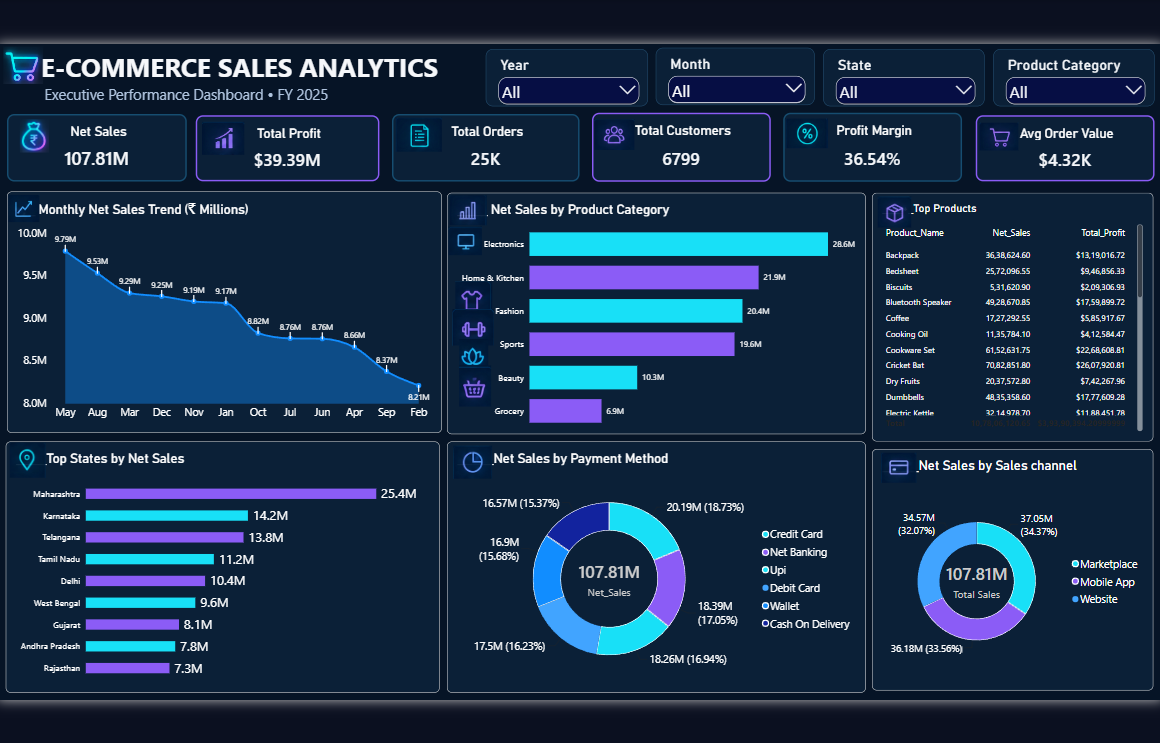

The page's visual inventory and layout, read from the dashboard file:
{"tool":"powerbi","page":{"name":"Page 1","canvas":[1920,1080],"ordinal":0},"visuals":[{"type":"textbox","box":[0,391,455,150],"z":0},{"type":"textbox","box":[70,8.2,658.7,92.6],"z":1000},{"type":"textbox","box":[78.2,65.9,483.7,32.9],"z":2000},{"type":"image","box":[10.3,4.1,65.9,61.7],"z":3000},{"type":"slicer","fields":{"Values":["Date_Table.Year"]},"box":[804.8,8.2,267.6,94.7],"z":4000},{"type":"slicer","fields":{"Values":["E-Commerce_cleaned.Product_Category"]},"box":[1640.5,8.2,265.5,94.7],"z":5000},{"type":"slicer","fields":{"Values":["E-Commerce_cleaned.State"]},"box":[1360.6,8.2,265.5,94.7],"z":6000},{"type":"slicer","fields":{"Values":["Date_Table.Month"]},"box":[1084.7,6.2,261.4,94.7],"z":7000},{"type":"card","title":"Net Sales","fields":{"Values":["Measure.Net_Sales"]},"box":[16.5,115.3,296.4,111.1],"z":8000},{"type":"card","title":"Total Profit","fields":{"Values":["Measure.Total_Profit"]},"box":[327.3,117.3,302.6,109.1],"z":9000},{"type":"card","title":"Profit Margin","fields":{"Values":["Measure.Profit_Margin_%"]},"box":[1294.7,113.2,294.3,113.2],"z":10000},{"type":"card","title":"Total Orders","fields":{"Values":["Measure.Total_Orders"]},"box":[650.4,115.3,308.7,111.1],"z":11000},{"type":"card","title":"Total Customers","fields":{"Values":["Measure.Total_Customers"]},"box":[979.8,113.2,294.3,113.2],"z":12000},{"type":"card","title":"Avg Order Value","fields":{"Values":["Measure.Avg_Ord_Val"]},"box":[1611.7,117.3,294.3,109.1],"z":13000},{"type":"lineChart","title":".   ,  _  Monthly Net Sales Trend (₹ Millions)","fields":{"Category":["Date_Table.Month"],"Y":["Measure.Net_Sales"]},"box":[16.5,242.9,716.3,397.3],"z":14000},{"type":"image","box":[18.5,242.9,51.5,55.6],"z":15000},{"type":"image","box":[656.6,107,76.2,84.4],"z":16000},{"type":"image","box":[28.8,123.5,65.9,55.6],"z":17000},{"type":"image","box":[337.6,119.4,70,72],"z":18000},{"type":"image","box":[983.9,119.4,65.9,59.7],"z":19000},{"type":"image","box":[1298.8,113.2,70,67.9],"z":20000},{"type":"image","box":[1617.8,115.3,63.8,74.1],"z":21000},{"type":"barChart","title":"_____ Net Sales by Product Category","fields":{"Category":["E-Commerce_cleaned.Product_Category"],"Y":["Measure.Net_Sales"]},"box":[741,244.9,689.5,397.3],"z":22000},{"type":"donutChart","title":"______Net Sales by Sales channel","fields":{"Category":["E-Commerce_cleaned.Sales_Channel"],"Y":["Measure.Net_Sales"]},"box":[1440.8,666.9,463.1,397.3],"z":23000},{"type":"barChart","title":"_____Top States by Net Sales","fields":{"Category":["E-Commerce_cleaned.State"],"Y":["Measure.Net_Sales"]},"box":[14.4,654.5,714.2,413.7],"z":24000},{"type":"donutChart","title":"______Net Sales by Payment Method","fields":{"Category":["E-Commerce_cleaned.Payment_Method"],"Y":["Measure.Net_Sales"]},"box":[741,654.5,689.5,413.7],"z":25000},{"type":"tableEx","title":"____+_Top Products","fields":{"Values":["E-Commerce_cleaned.Product_Name","Measure.Net_Sales","Measure.Total_Profit"]},"box":[1440.8,244.9,463.1,409.6],"z":26000},{"type":"image","box":[745.1,244.9,61.7,57.6],"z":27000},{"type":"image","box":[751.3,656.6,63.8,63.8],"z":28000},{"type":"image","box":[18.5,656.6,63.8,57.6],"z":29000},{"type":"image","box":[1447,251.1,61.7,51.5],"z":30000},{"type":"image","box":[1453.2,673.1,63.8,49.4],"z":31000},{"type":"image","box":[736.9,300.5,67.9,47.3],"z":32000},{"type":"image","box":[745.1,391.1,80.3,49.4],"z":33000},{"type":"image","box":[745.1,436.4,78.2,59.7],"z":34000},{"type":"image","box":[755.4,485.8,59.7,53.5],"z":35000},{"type":"image","box":[751.3,529,72,67.9],"z":36000}]}

Visuals, with their boxes on the page's 1920x1080 design canvas (x1, y1, x2, y2). These are canvas units, not pixel positions in the 1160x743 screenshot, which may show the page scaled, cropped or inside an application window:
textbox: left=0, top=391, right=455, bottom=541
textbox: left=70, top=8, right=729, bottom=101
textbox: left=78, top=66, right=562, bottom=99
image: left=10, top=4, right=76, bottom=66
slicer - Date_Table.Year: left=805, top=8, right=1072, bottom=103
slicer - E-Commerce_cleaned.Product_Category: left=1640, top=8, right=1906, bottom=103
slicer - E-Commerce_cleaned.State: left=1361, top=8, right=1626, bottom=103
slicer - Date_Table.Month: left=1085, top=6, right=1346, bottom=101
"Net Sales" card: left=16, top=115, right=313, bottom=226
"Total Profit" card: left=327, top=117, right=630, bottom=226
"Profit Margin" card: left=1295, top=113, right=1589, bottom=226
"Total Orders" card: left=650, top=115, right=959, bottom=226
"Total Customers" card: left=980, top=113, right=1274, bottom=226
"Avg Order Value" card: left=1612, top=117, right=1906, bottom=226
".   ,  _  Monthly Net Sales Trend (₹ Millions)" lineChart: left=16, top=243, right=733, bottom=640
image: left=18, top=243, right=70, bottom=298
image: left=657, top=107, right=733, bottom=191
image: left=29, top=124, right=95, bottom=179
image: left=338, top=119, right=408, bottom=191
image: left=984, top=119, right=1050, bottom=179
image: left=1299, top=113, right=1369, bottom=181
image: left=1618, top=115, right=1682, bottom=189
"_____ Net Sales by Product Category" barChart: left=741, top=245, right=1430, bottom=642
"______Net Sales by Sales channel" donutChart: left=1441, top=667, right=1904, bottom=1064
"_____Top States by Net Sales" barChart: left=14, top=654, right=729, bottom=1068
"______Net Sales by Payment Method" donutChart: left=741, top=654, right=1430, bottom=1068
"____+_Top Products" tableEx: left=1441, top=245, right=1904, bottom=654
image: left=745, top=245, right=807, bottom=302
image: left=751, top=657, right=815, bottom=720
image: left=18, top=657, right=82, bottom=714
image: left=1447, top=251, right=1509, bottom=303
image: left=1453, top=673, right=1517, bottom=722
image: left=737, top=300, right=805, bottom=348
image: left=745, top=391, right=825, bottom=440
image: left=745, top=436, right=823, bottom=496
image: left=755, top=486, right=815, bottom=539
image: left=751, top=529, right=823, bottom=597
